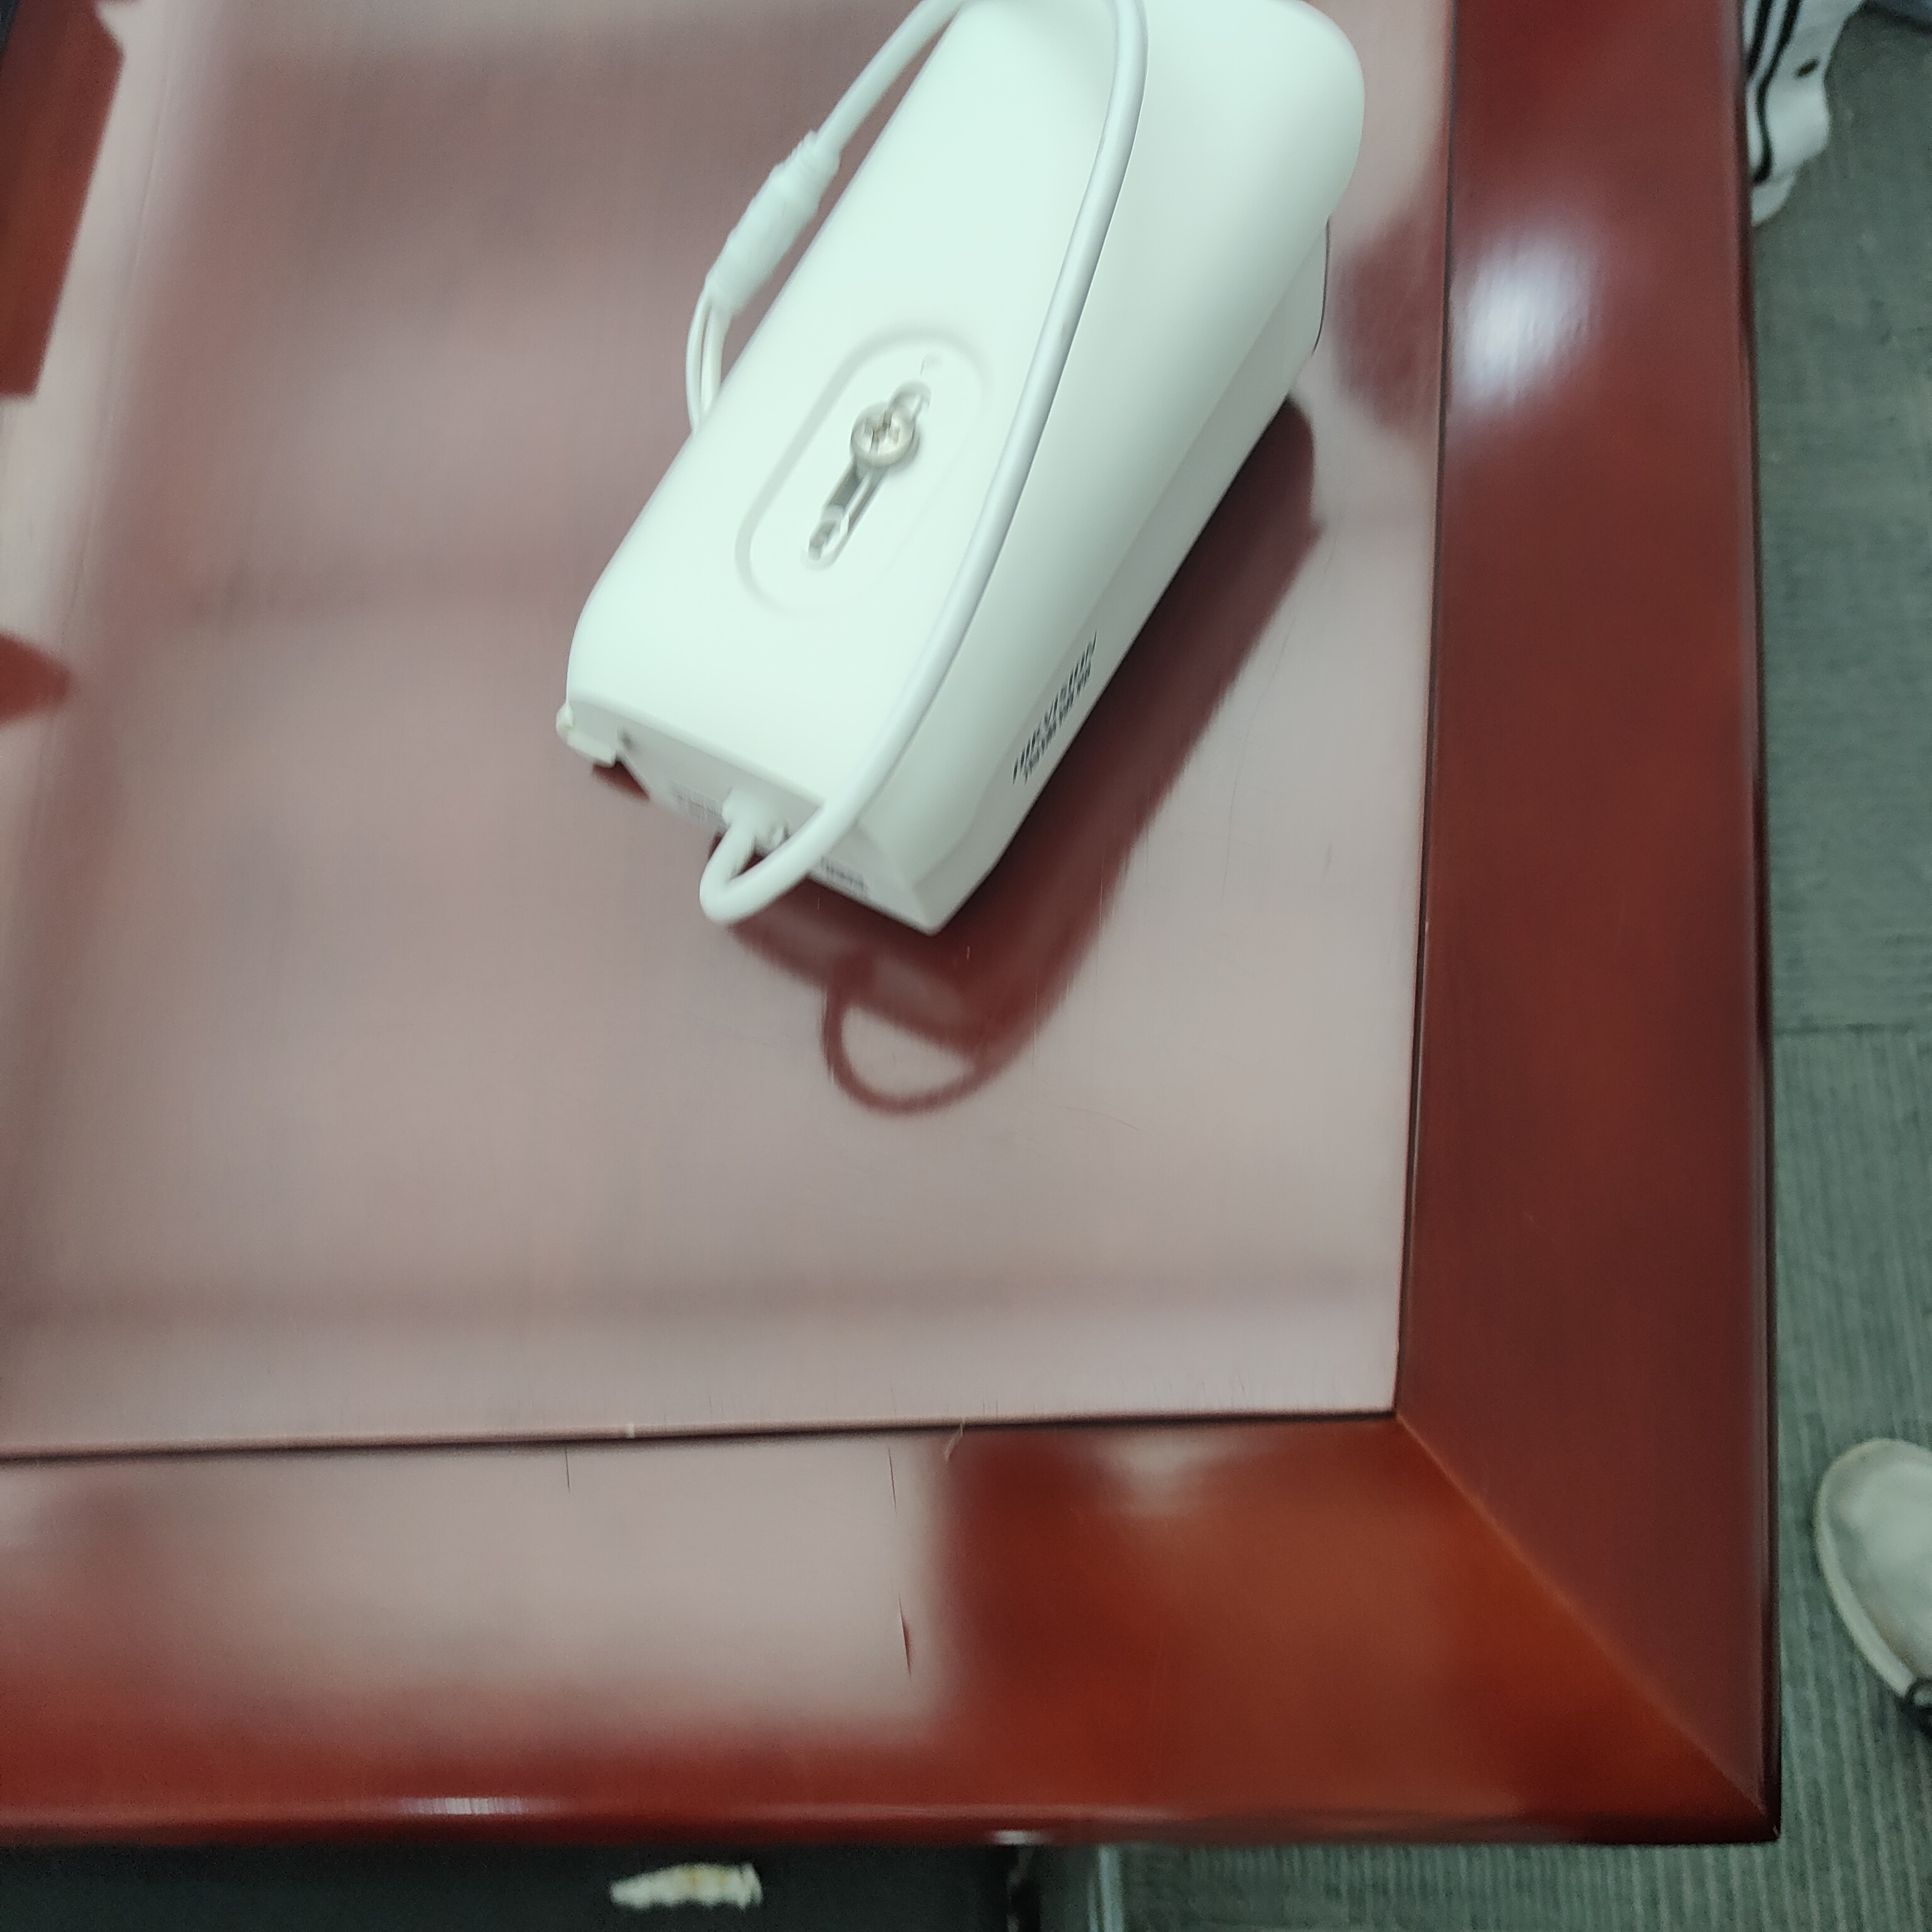hkws: (522, 9, 1392, 920)
